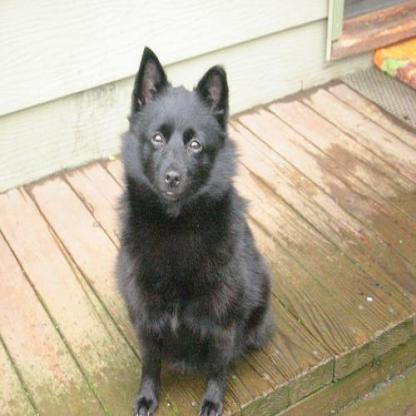schipperke: (114, 43, 271, 414)
